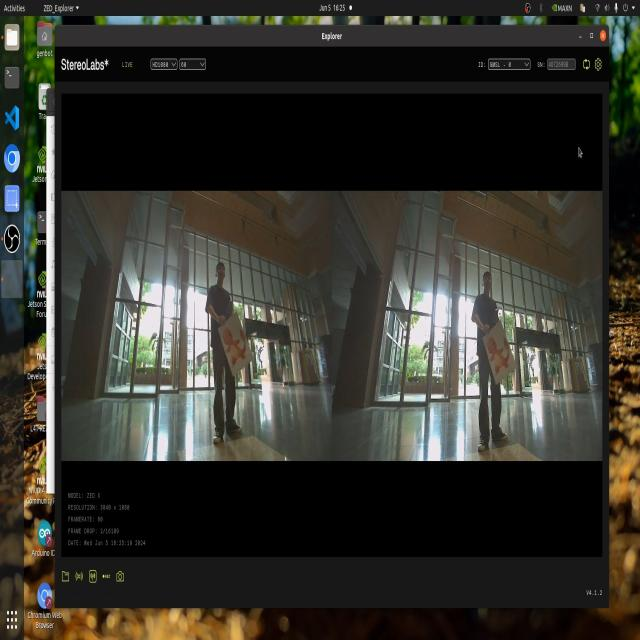red: (486, 339, 514, 390), (218, 316, 243, 365)
